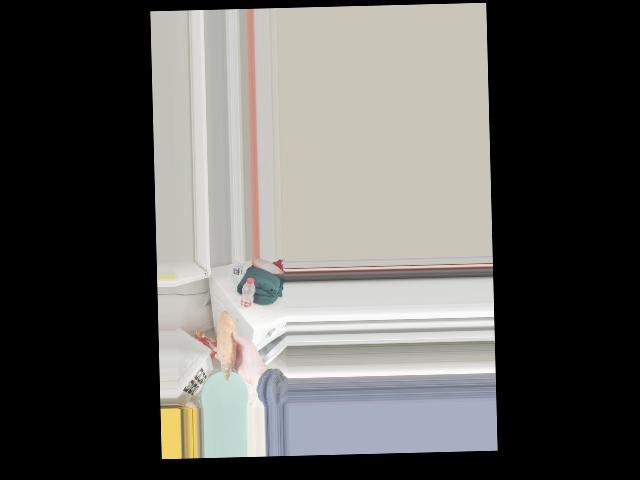sweet_potato: (219, 319, 235, 372)
